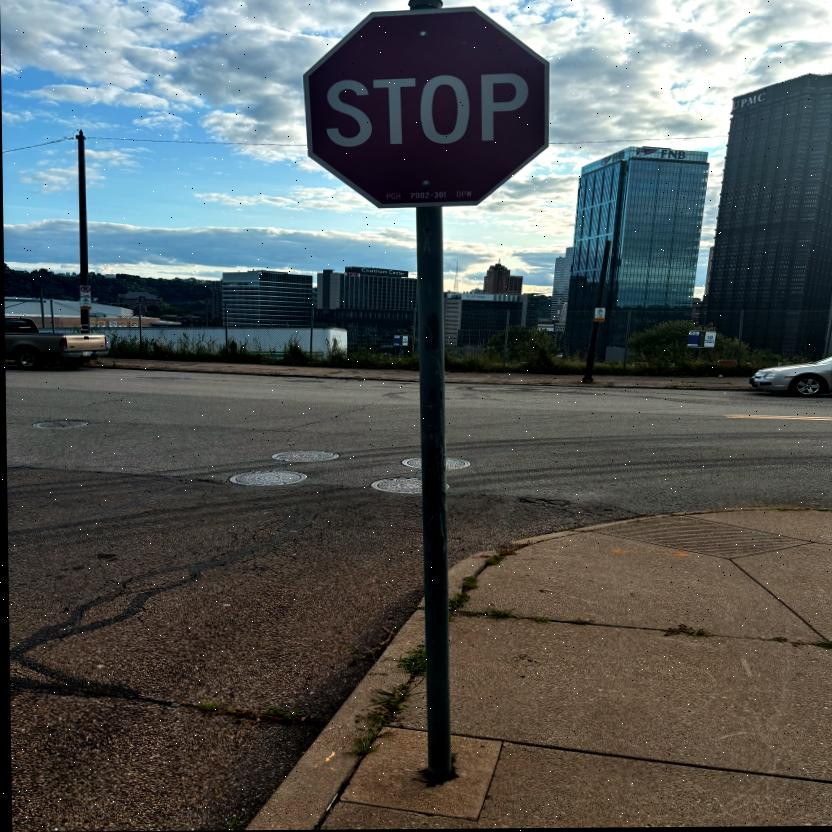Pole: (412, 207, 454, 773)
Sign: (304, 10, 552, 209)
